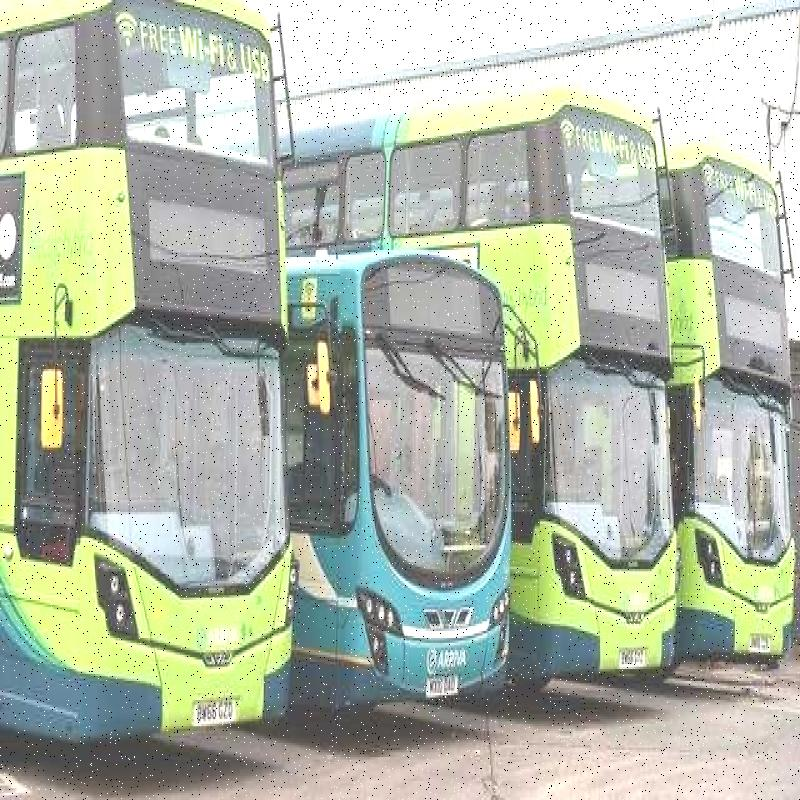bus: (1, 0, 299, 769), (519, 46, 687, 742), (305, 238, 521, 754), (679, 123, 789, 720)
